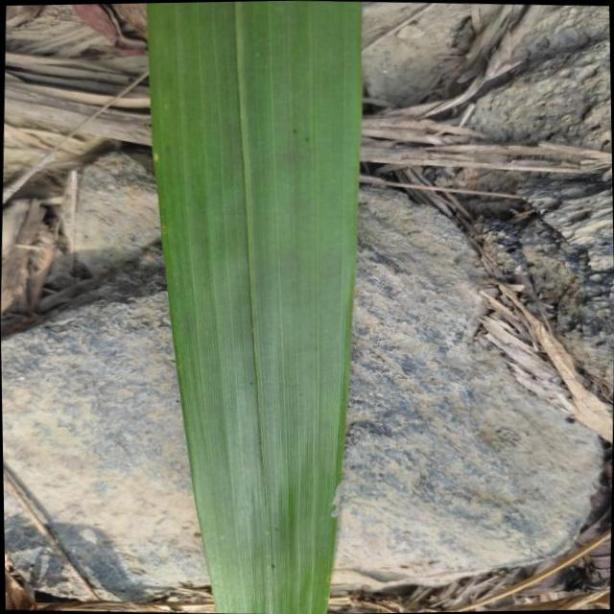Healthy: (141, 0, 361, 614)
